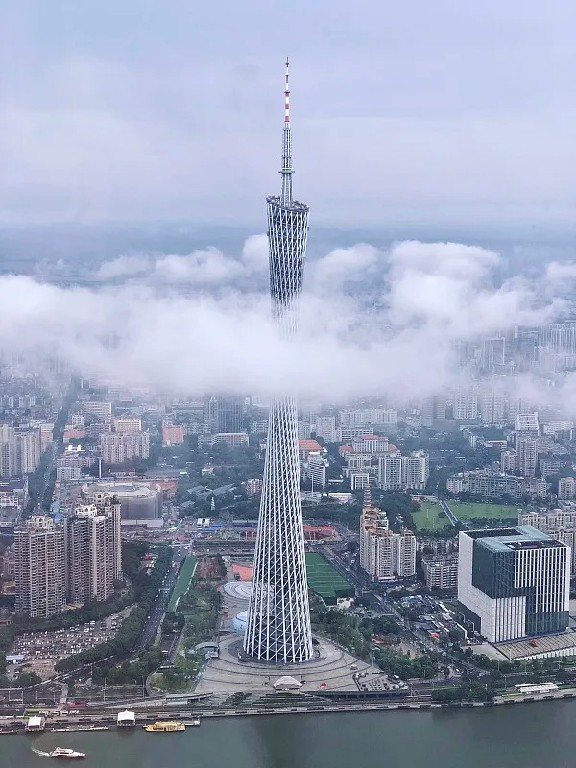Canton: (242, 54, 318, 665)
